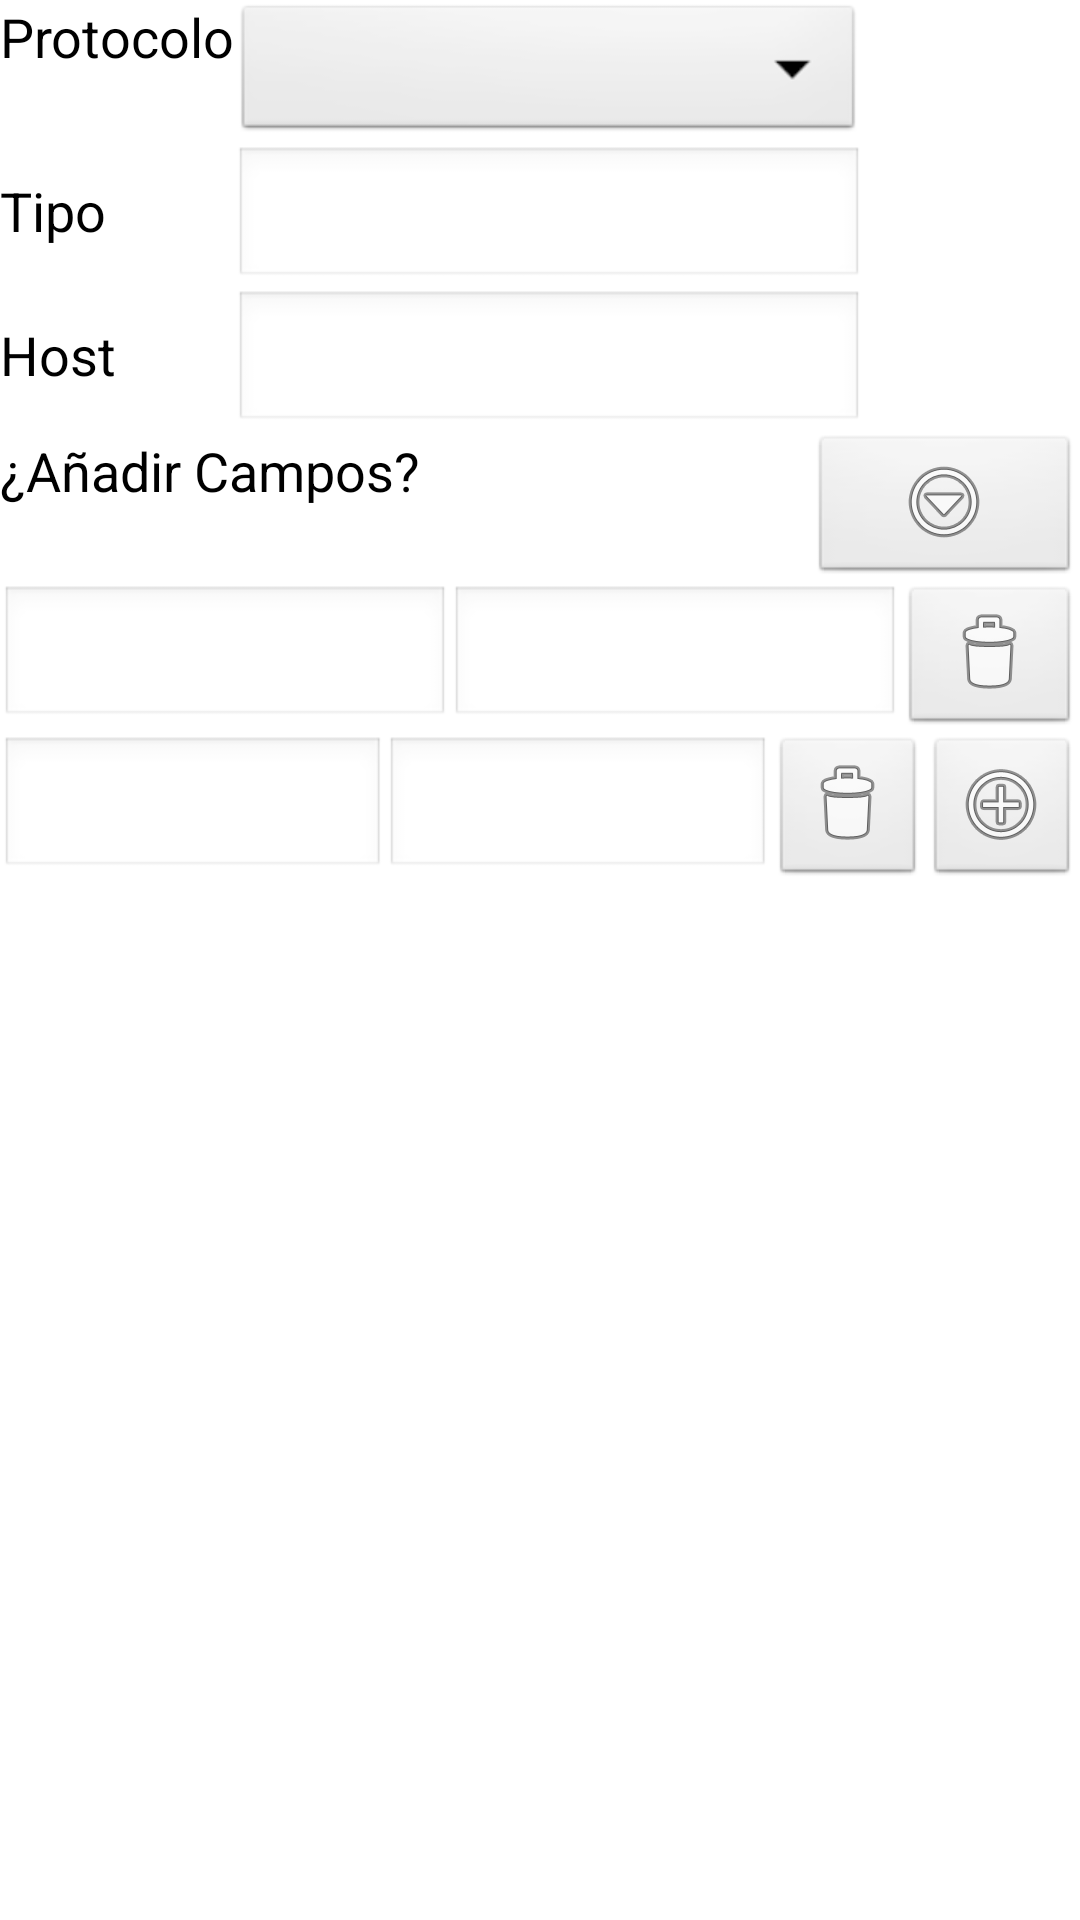

Icons on this 1080 x 1920 Android screen, each with its box as (left=x1, top=y1, right=x2, bottom=y2):
add: (left=933, top=738, right=1071, bottom=875)
delete: (left=908, top=587, right=1071, bottom=724), (left=779, top=738, right=917, bottom=875)
more: (left=818, top=436, right=1071, bottom=573)
